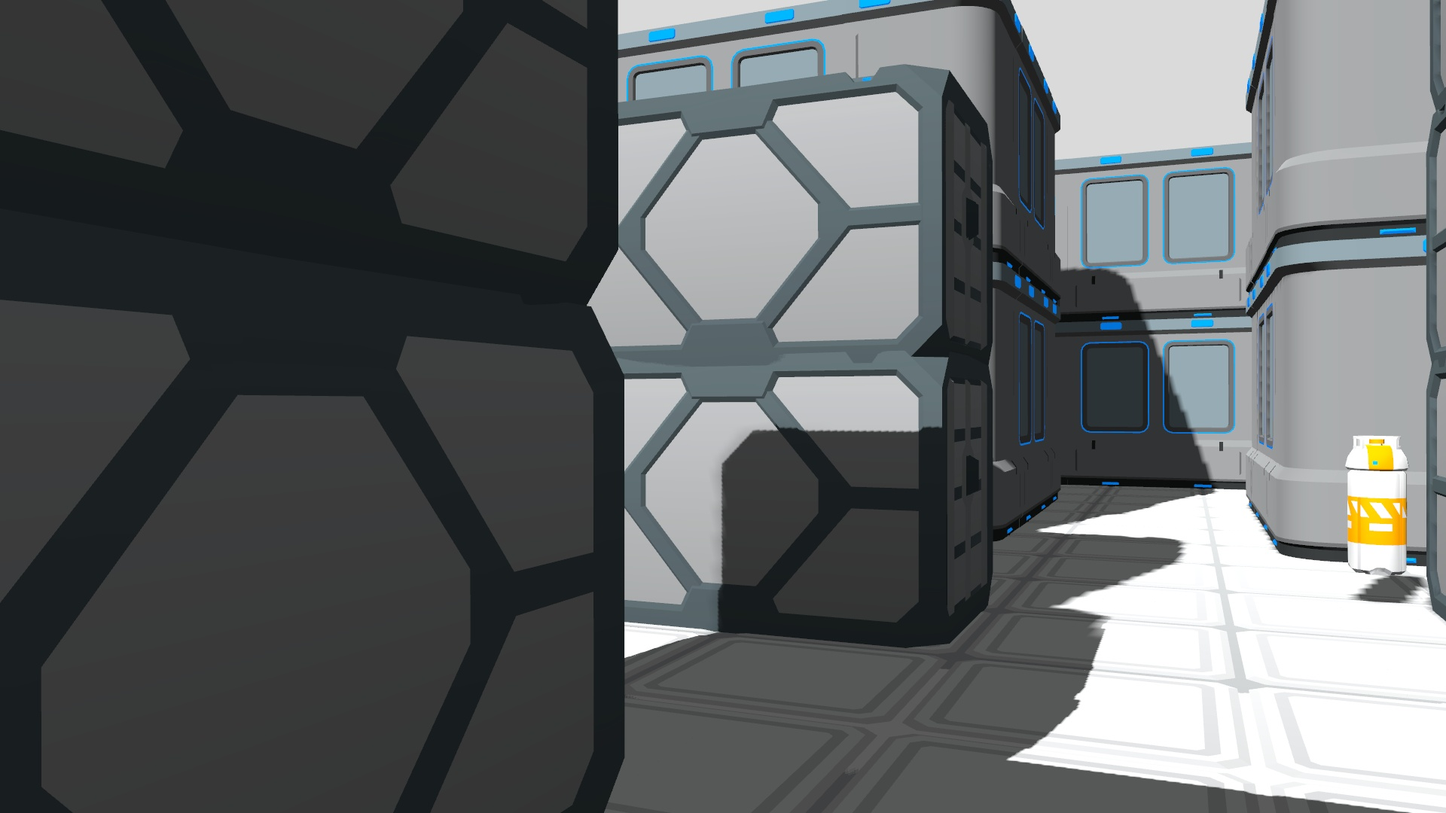yellow_barrel: (1342, 431, 1411, 578)
